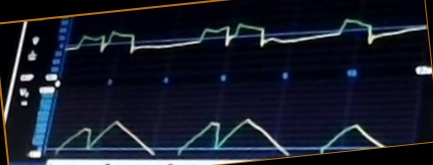Double_Triggering Flow: (73, 17, 415, 65)
Double_Triggering Volume: (55, 106, 395, 158)
